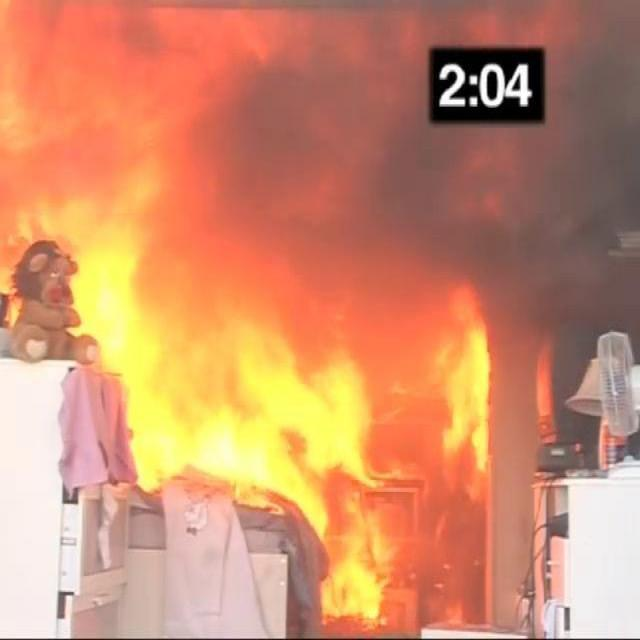Fire: (58, 175, 502, 497)
